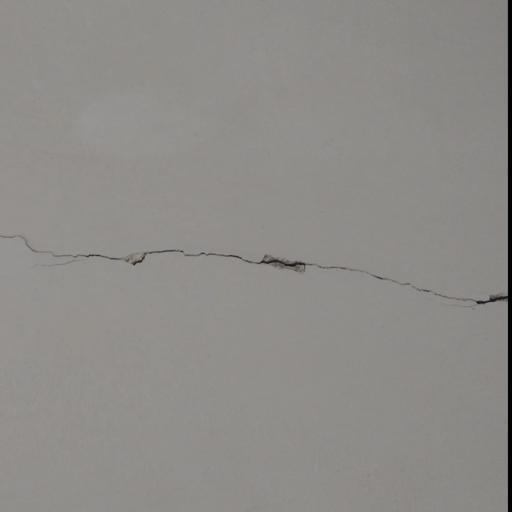major_crack: (0, 194, 507, 324)
